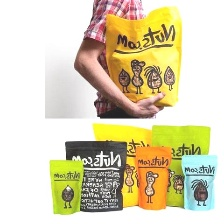snack: (100, 1, 188, 111), (88, 118, 157, 211), (148, 120, 215, 210), (61, 136, 132, 216), (132, 142, 175, 213), (178, 151, 221, 213), (46, 154, 88, 217)
